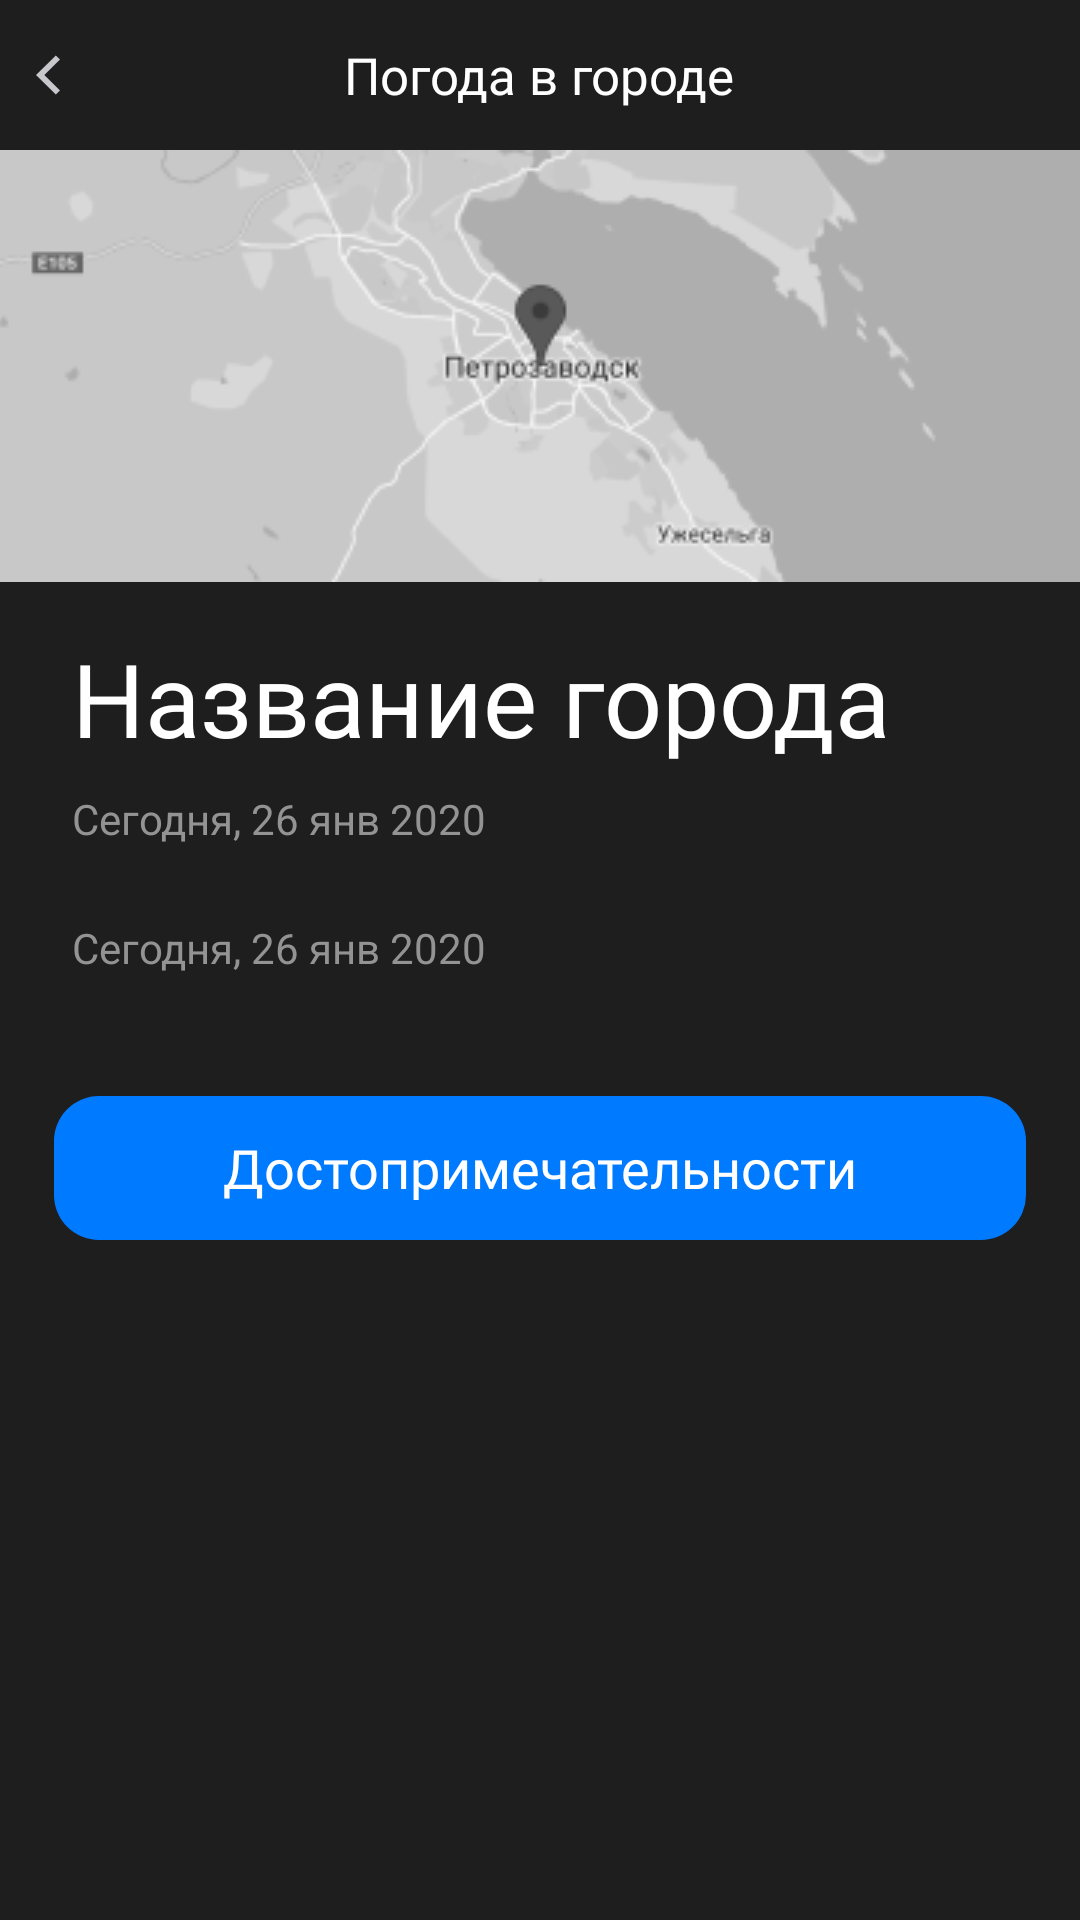

Screen size 1080 × 1920. Icon name, then its box in pixels as (x1, y1, x2, y2):
arrow: (36, 55, 60, 95)
